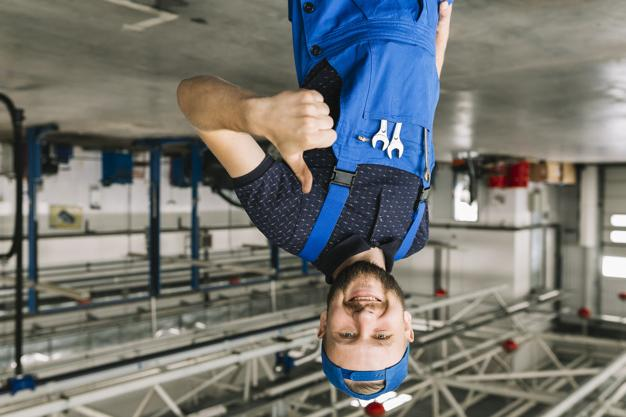thumbsdown: (286, 88, 337, 194)
